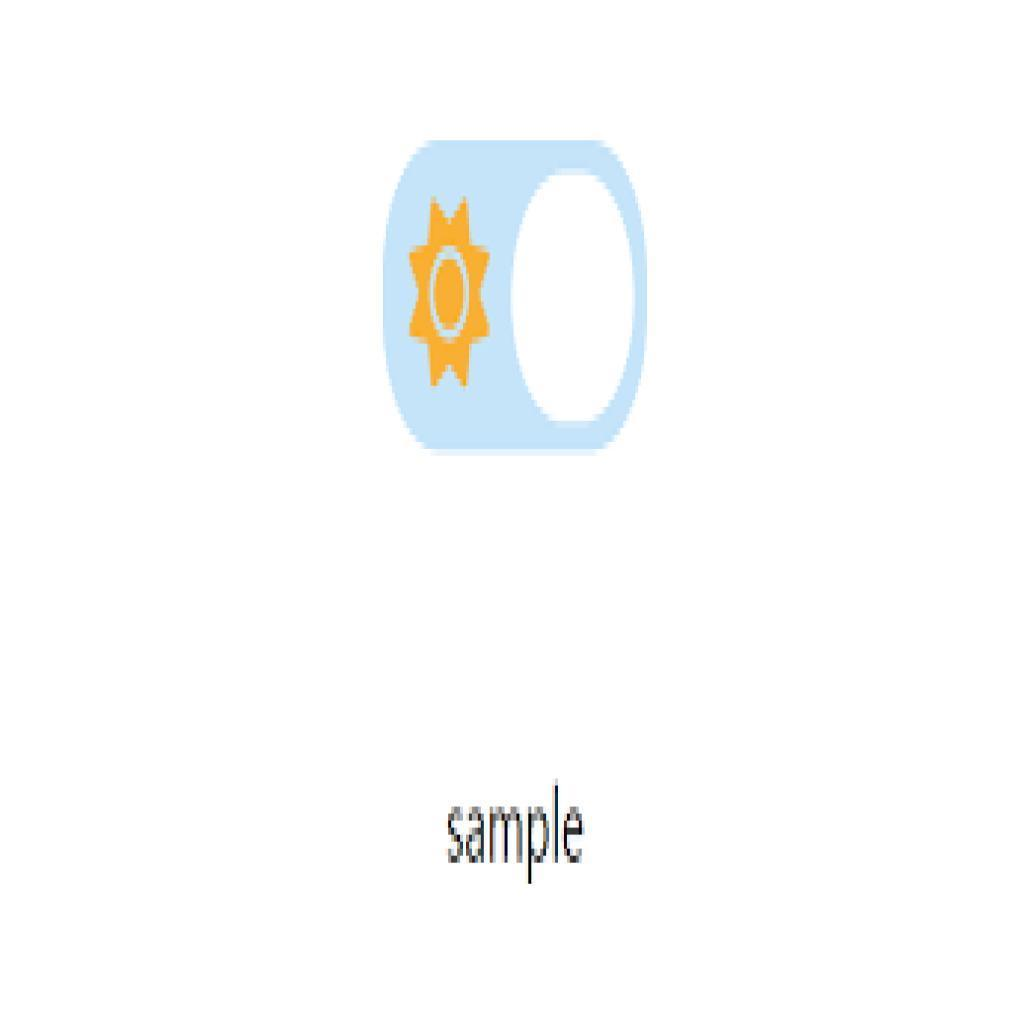switch: (383, 143, 647, 450)
